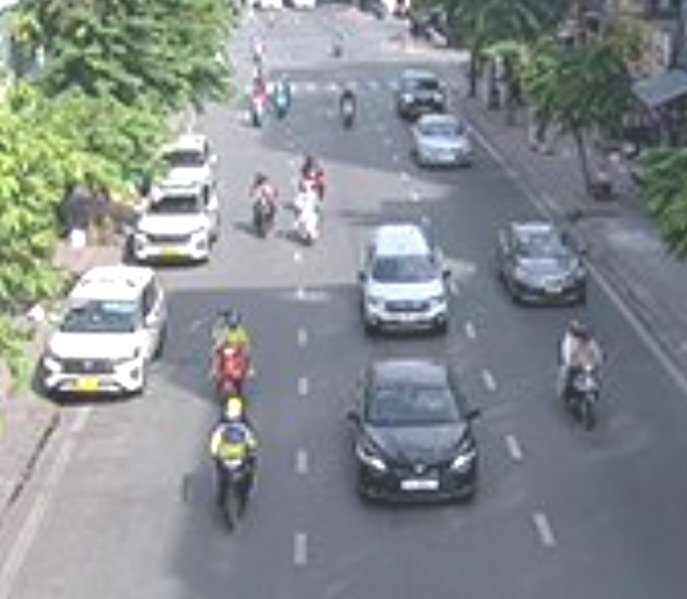car: (349, 362, 483, 507), (50, 261, 172, 417), (358, 222, 449, 341), (131, 181, 221, 268), (496, 221, 586, 303), (410, 112, 473, 170), (397, 69, 445, 119)
